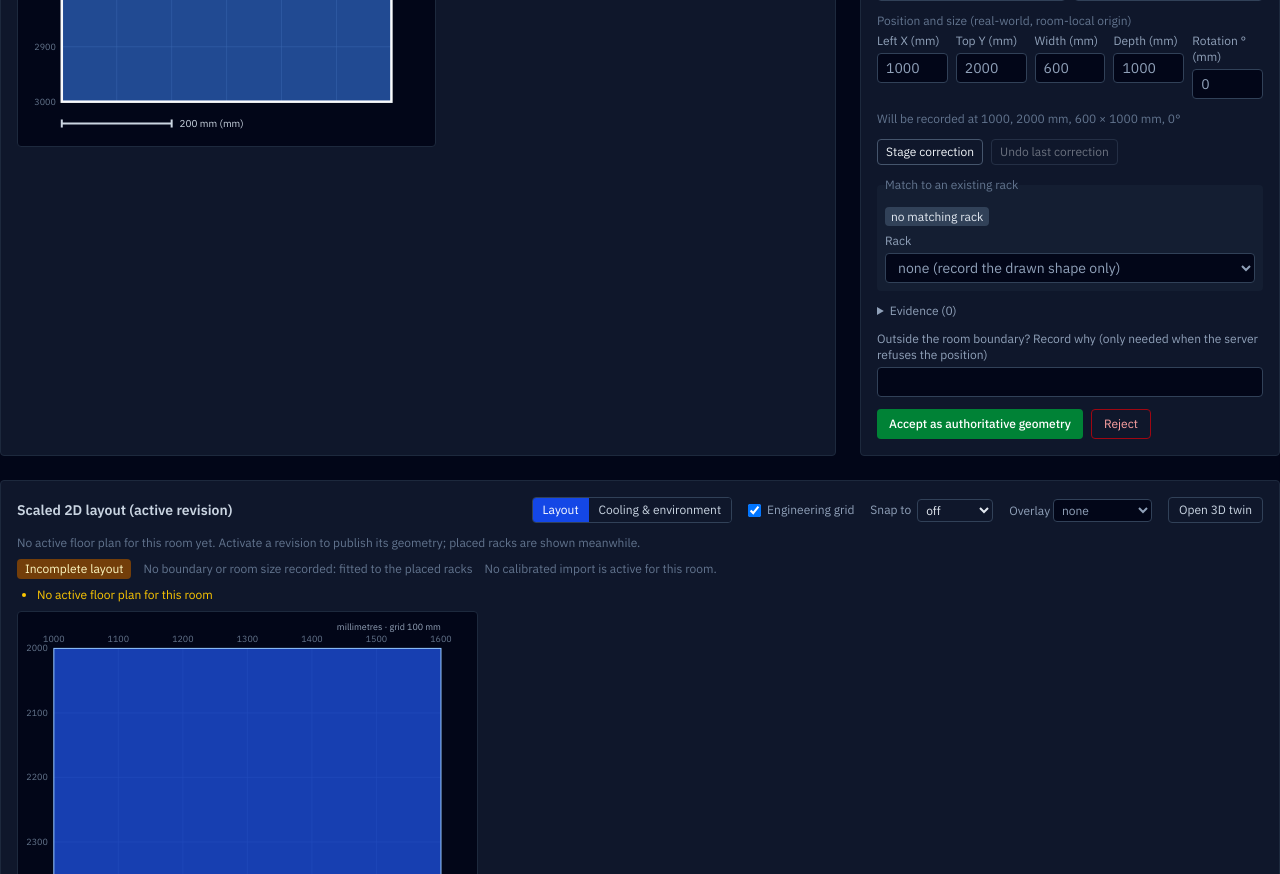
RoomFloorPlanPage workflow › accepts a calibrated candidate with the candidate version as the concurrency token and refreshes
(page scrolled)
Click the button "Accept as authoritative geometry": (980, 424) [877, 409, 1083, 439]
(page scrolled)
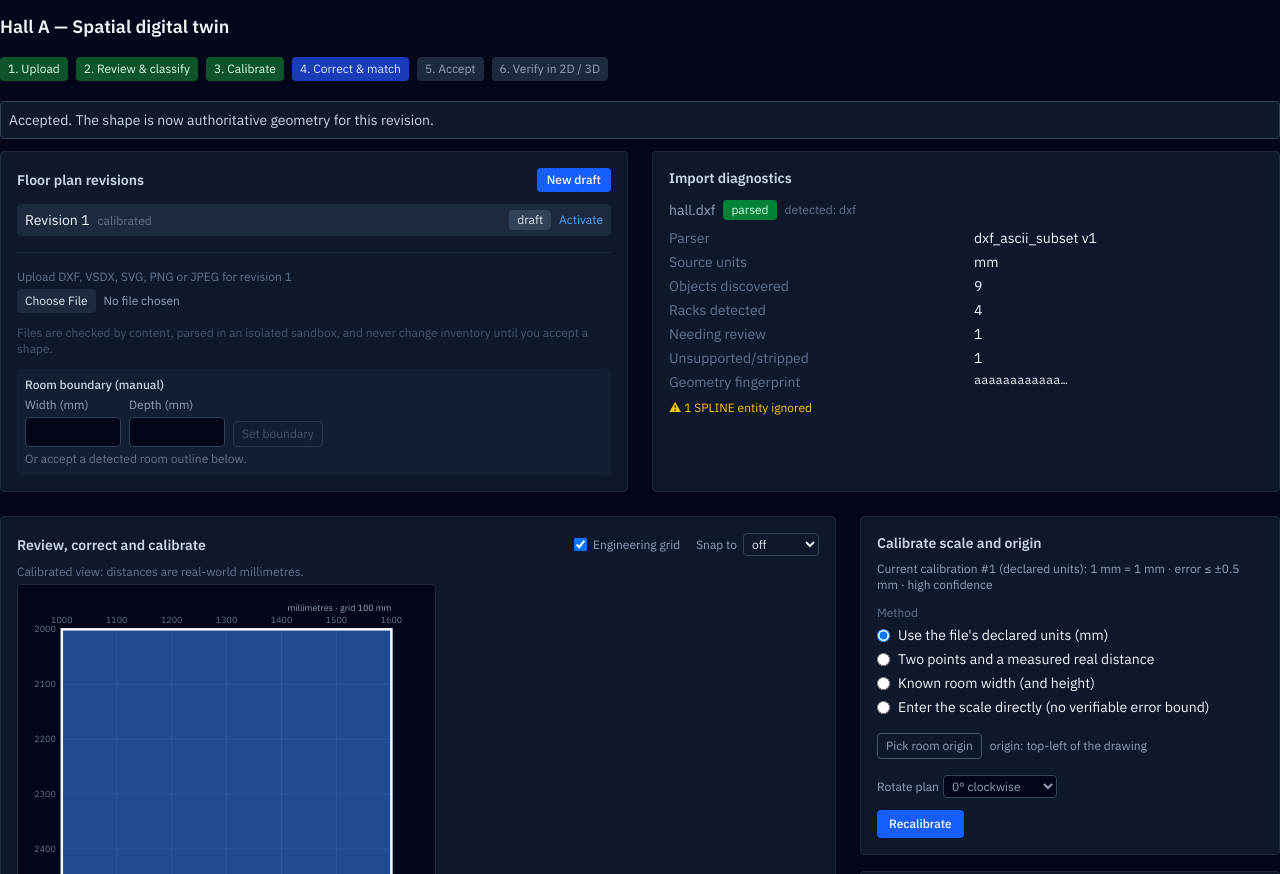
Result: the message with test id "notice" shows "Accepted" at [9, 111, 434, 129]
